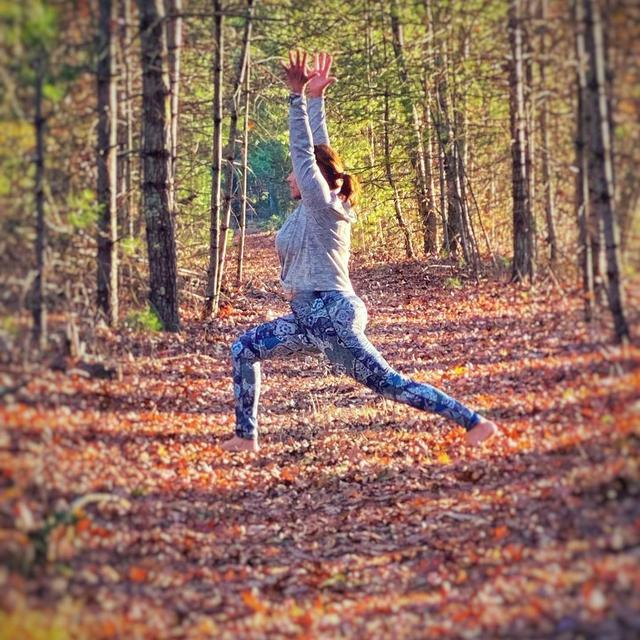Warrior_I: (198, 35, 514, 470)
